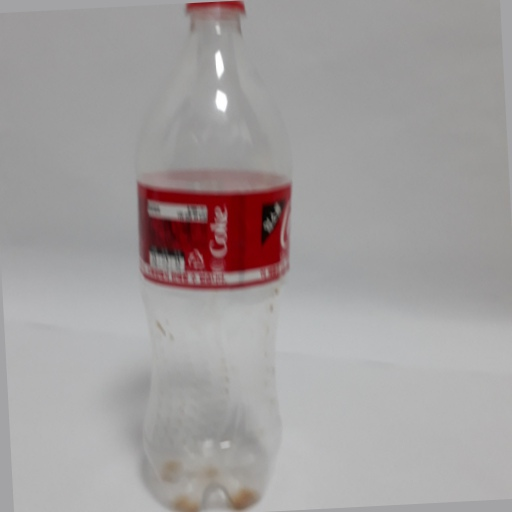Plastic_0: (122, 2, 300, 512)
